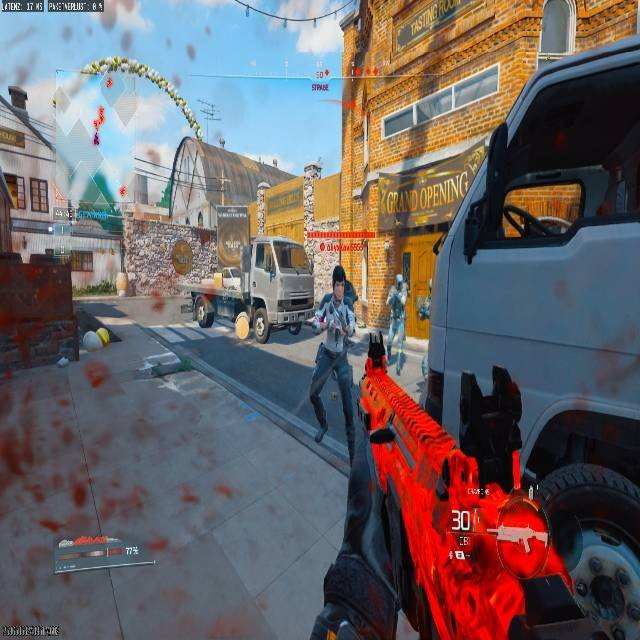head: (331, 265, 345, 289), (394, 274, 405, 288)
player: (306, 266, 384, 449), (383, 274, 410, 373), (193, 287, 218, 331)
